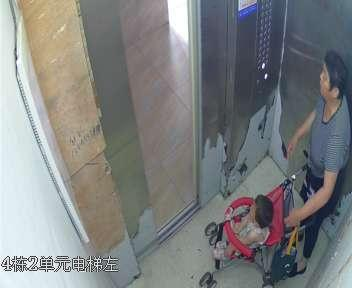person: (284, 51, 352, 254), (210, 195, 274, 269)
